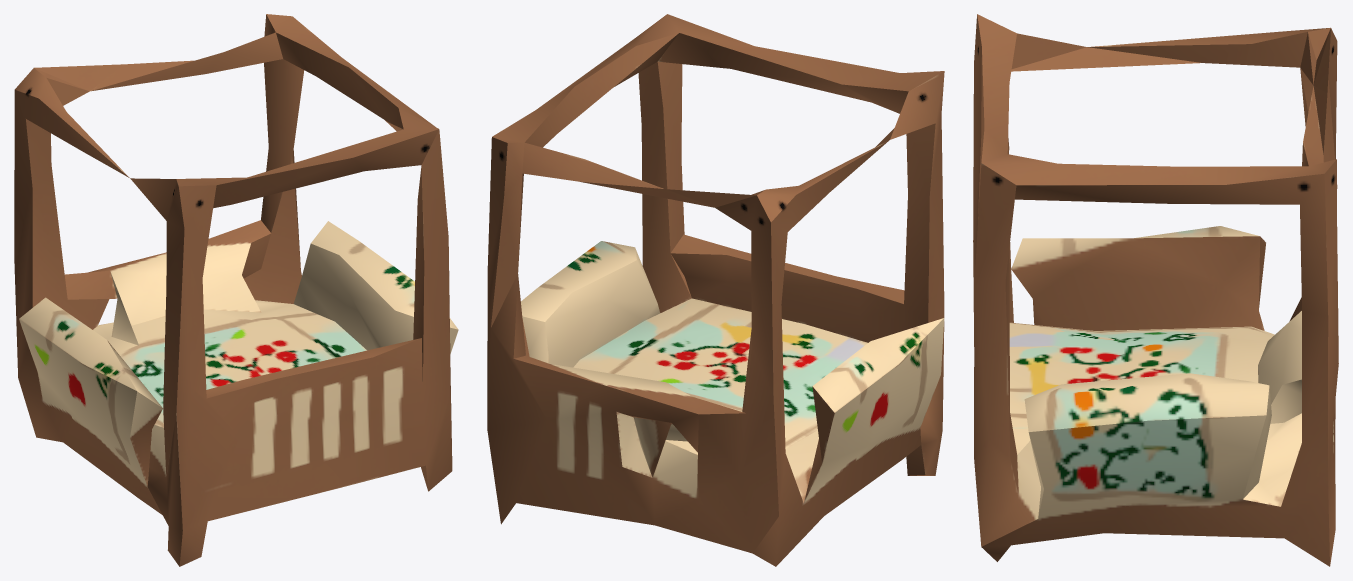
The model's file is cottage-fourposter-bed.glb.
3 renders of one model, left to right at view 1: azimuth 30°, elevation 25°; view 2: azimuth 150°, elevation 25°; view 3: azimuth 270°, elevation 25°, orthographic. The views are drawn at different scales.
Parts seen in each view (by area): view 1: geometry_0; view 2: geometry_0; view 3: geometry_0.
Boxes of the visible parts, x1,y1,x2,y2 form: geometry_0: [14, 14, 458, 566]; geometry_0: [487, 14, 944, 566]; geometry_0: [973, 14, 1338, 566].
Size of the model in its own units: 0.9004 by 1 by 0.7887.
Materials: 1 (1 with a texture image).
